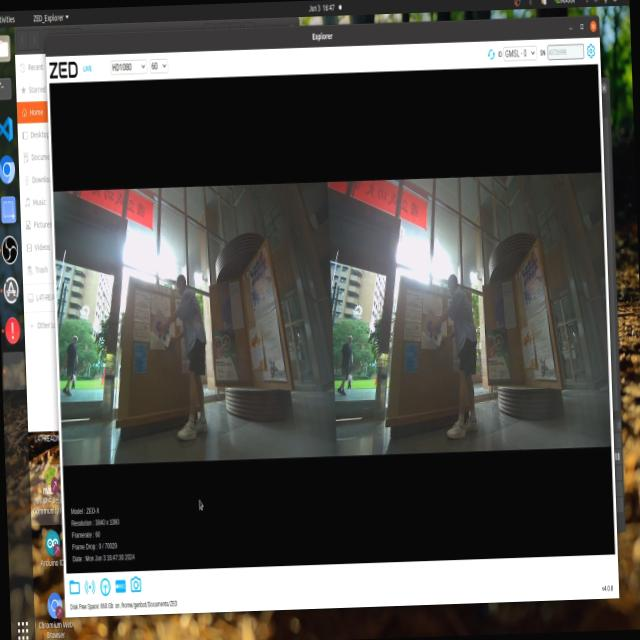blue: (152, 312, 172, 351), (422, 311, 444, 344)
